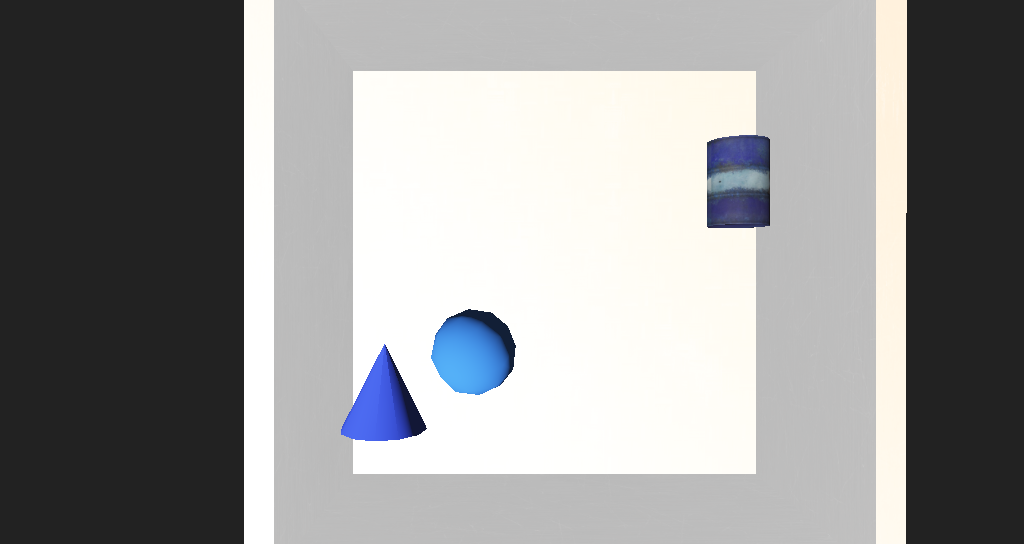cone: (613, 196, 667, 243)
cylinder: (344, 303, 411, 356)
sphere: (411, 289, 478, 332)
